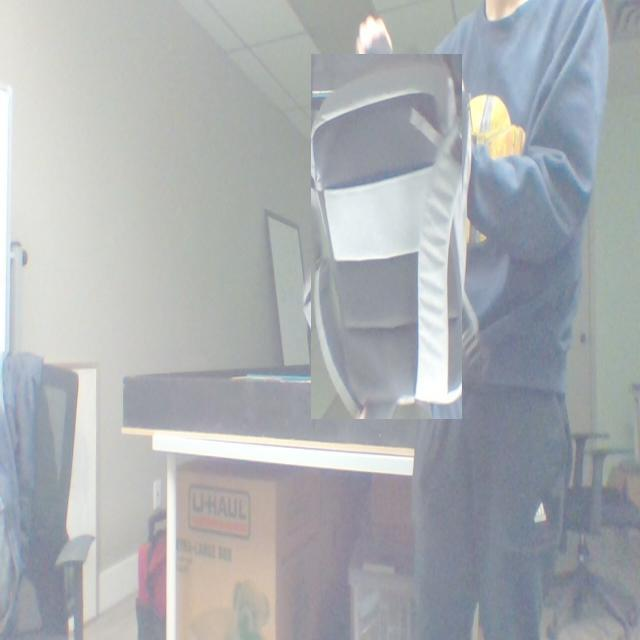Backpacks: (312, 54, 464, 420)
